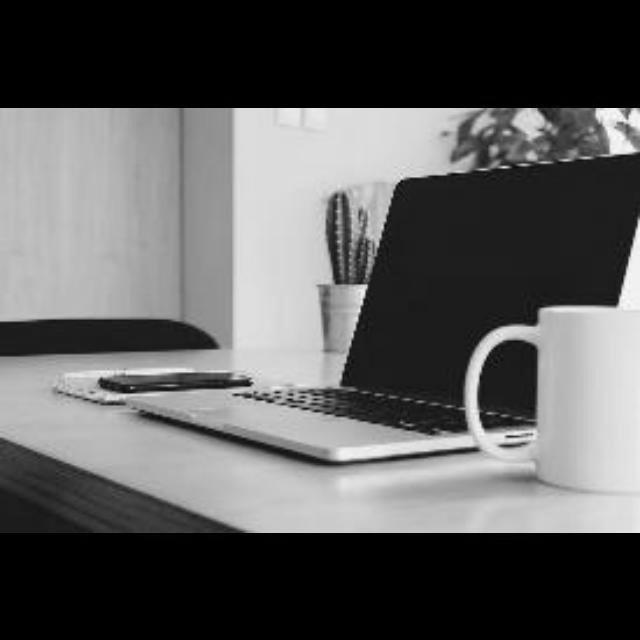fake: (69, 348, 274, 401)
